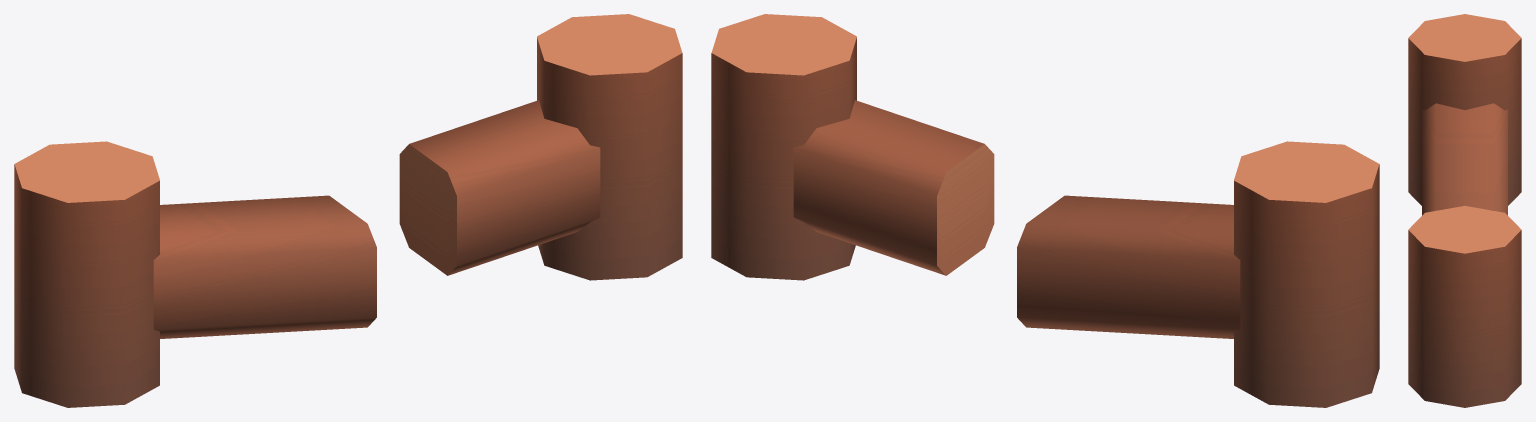
Rendered from fence-low-broken.glb.
The picture shows the model from 3 angles, left to right: view 1: azimuth 30°, elevation 25°; view 2: azimuth 150°, elevation 25°; view 3: azimuth 270°, elevation 25°; orthographic projection. The views are drawn at different scales.
Parts seen in each view (by area): view 1: fence-low-broken; view 2: fence-low-broken; view 3: fence-low-broken.
Part boxes in pixels (left/top/right/bottom): fence-low-broken: left=14, top=14, right=682, bottom=407; fence-low-broken: left=711, top=14, right=1379, bottom=407; fence-low-broken: left=1408, top=14, right=1521, bottom=407.
Size of the model in its own units: 1 by 0.3 by 0.2.
Materials: 1 (1 with a texture image).
